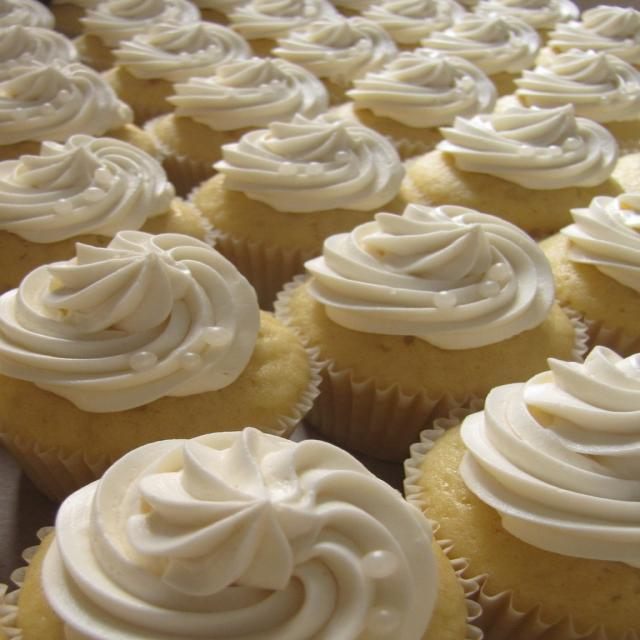Muffin: (0, 0, 639, 639), (0, 424, 481, 640), (272, 213, 578, 411), (411, 345, 640, 601)
